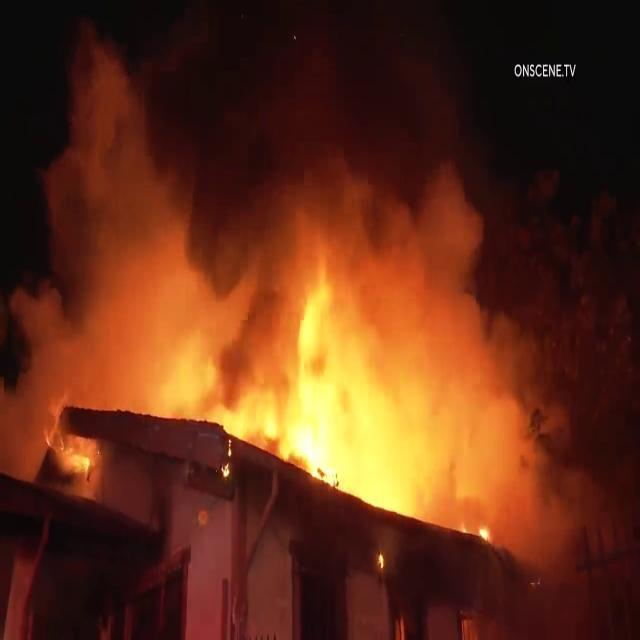Fire: (227, 311, 391, 487), (434, 461, 526, 564)
Smoke: (110, 33, 494, 251), (18, 193, 104, 381), (493, 292, 562, 425)
